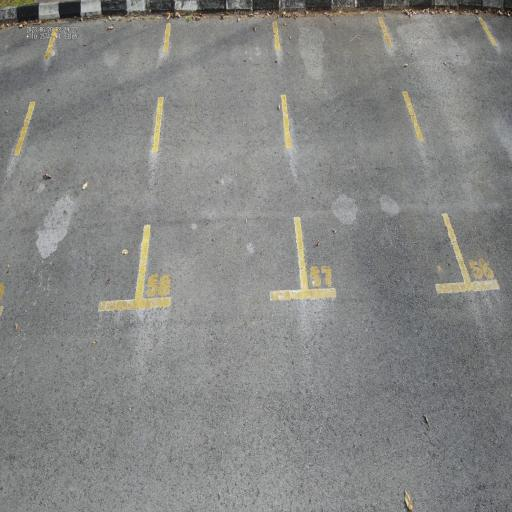Empty: (268, 9, 474, 307), (132, 11, 312, 314)
